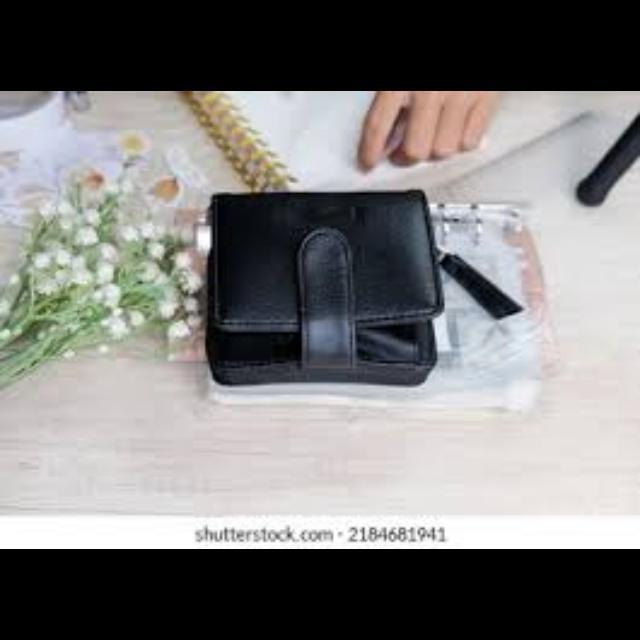Wallet: (206, 181, 447, 395)
